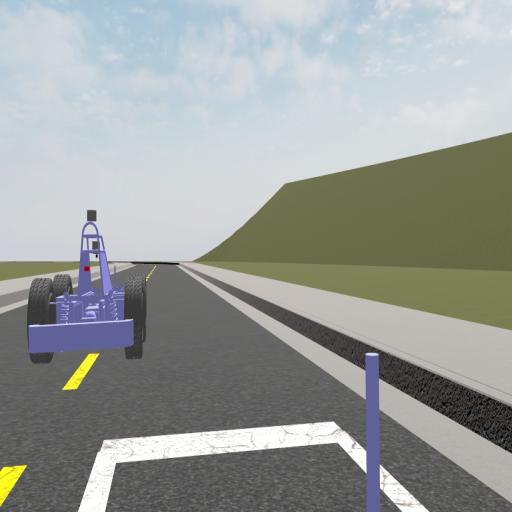ERP-42: (27, 208, 146, 364)
